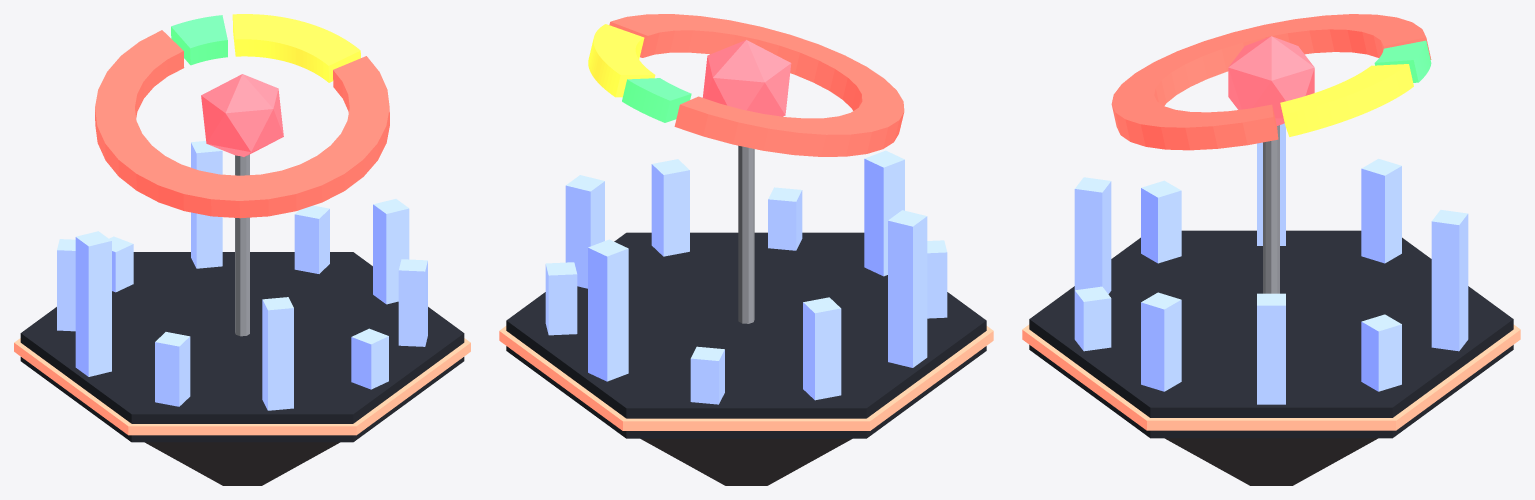
Rendered from cmc-health.glb.
3 views of the same model, side by side, from view 1: azimuth 30°, elevation 25°; view 2: azimuth 150°, elevation 25°; view 3: azimuth 270°, elevation 25° (orthographic). The views are drawn at different scales.
Visible parts, largest first — view 1: Platform, UnhealthyArc, RimLight, Underside, Heart, AverageArc, Bar5, Bar7, Bar0, Bar9, Bar2, Bar6 (+6 smaller); view 2: Platform, UnhealthyArc, RimLight, Underside, Bar5, Bar2, Heart, Bar7, Bar4, Bar9, Bar0, AverageArc (+6 smaller); view 3: Platform, UnhealthyArc, RimLight, Underside, Bar2, Heart, AverageArc, Bar7, Bar4, Bar9, Bar0, Bar6 (+5 smaller).
Boxes of the visible parts, x1,y1,x2,y2 form: Platform: (20, 252, 464, 442); UnhealthyArc: (95, 30, 389, 218); RimLight: (14, 338, 470, 435); Underside: (145, 442, 339, 485); Heart: (201, 74, 283, 156); AverageArc: (232, 14, 360, 82); Bar5: (75, 231, 111, 376); Bar7: (262, 297, 293, 410); Bar0: (373, 199, 409, 304); Bar9: (398, 259, 427, 346); Bar2: (191, 141, 222, 268); Bar6: (155, 332, 190, 406); Platform: (506, 232, 986, 438); UnhealthyArc: (609, 14, 904, 156); RimLight: (499, 326, 993, 430); Underside: (640, 438, 852, 485); Bar5: (888, 210, 927, 367); Bar2: (588, 239, 628, 381); Heart: (702, 40, 791, 116); Bar7: (864, 150, 904, 276); Bar4: (803, 297, 841, 400); Bar9: (651, 159, 689, 256); Bar0: (565, 175, 604, 288); AverageArc: (588, 24, 655, 97); Platform: (1029, 230, 1513, 438); UnhealthyArc: (1111, 14, 1431, 150); RimLight: (1022, 324, 1520, 430); Underside: (1165, 438, 1377, 485); Bar2: (1431, 210, 1468, 351); Heart: (1228, 36, 1314, 125); AverageArc: (1280, 64, 1413, 136); Bar7: (1074, 177, 1111, 293); Bar4: (1361, 158, 1401, 263); Bar9: (1141, 292, 1181, 391); Bar0: (1257, 293, 1285, 404); Bar6: (1141, 180, 1181, 263).
Size of the model in its own units: 3.57 by 3.97 by 4.12.
